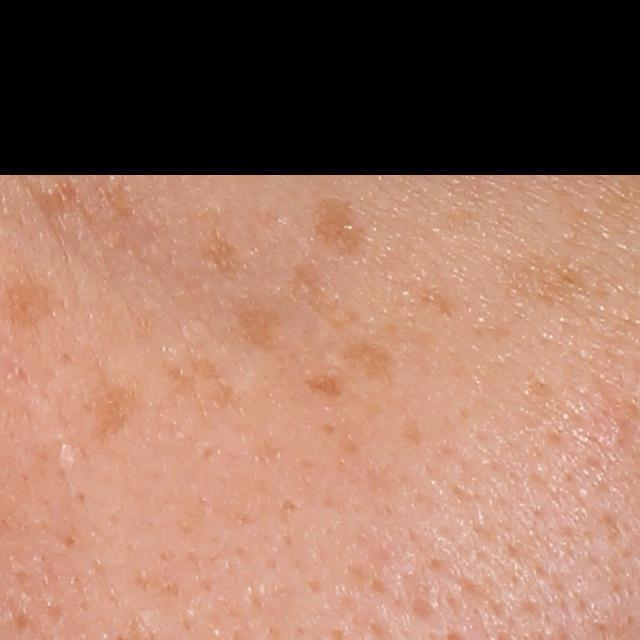melasma: (498, 246, 591, 312), (278, 256, 362, 329), (83, 369, 150, 450), (306, 191, 366, 265), (183, 348, 246, 416), (193, 225, 257, 286), (222, 292, 282, 357), (333, 334, 404, 388), (30, 178, 82, 226), (408, 274, 456, 321), (160, 357, 201, 407), (299, 367, 349, 403)
